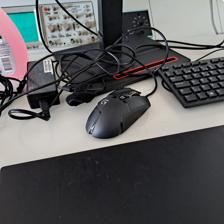mouse: (84, 86, 151, 140)
